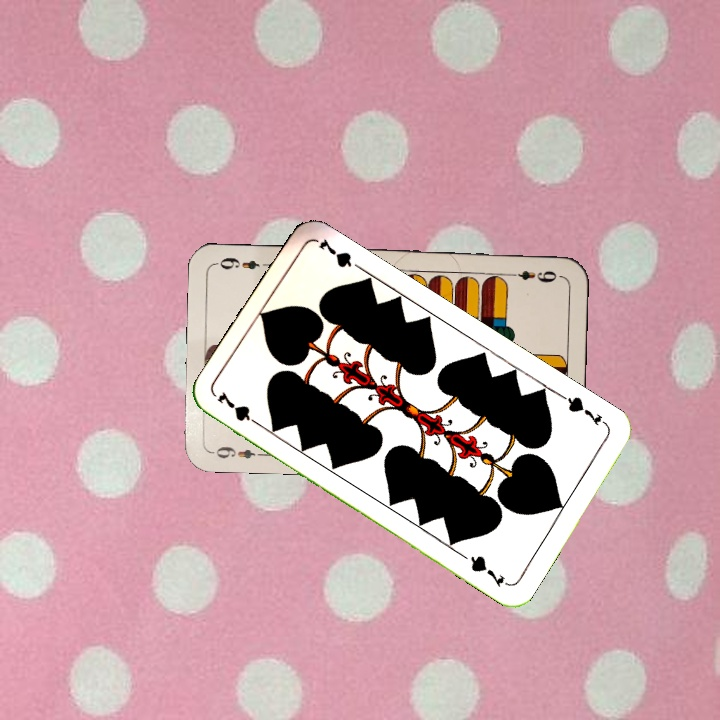E9: (208, 442, 267, 462), (503, 266, 562, 285)
G7: (213, 387, 266, 431), (558, 391, 611, 429)
